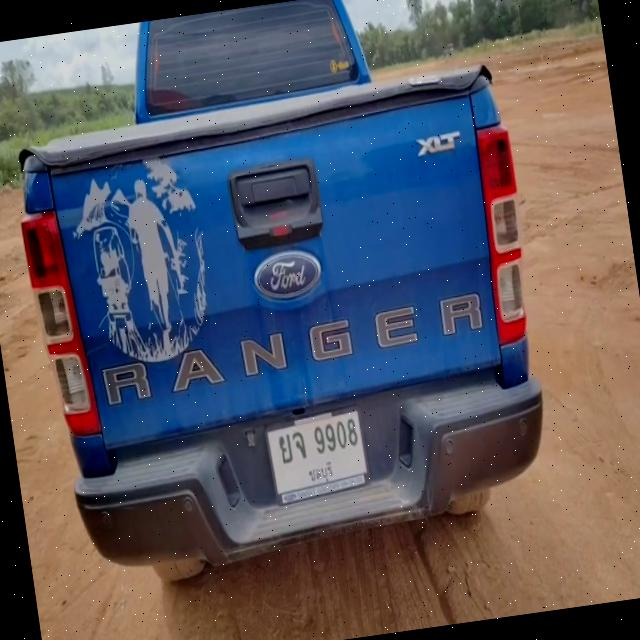Digit: (311, 418, 362, 458)
Licenseplate: (262, 407, 374, 505)
Provincename: (307, 460, 337, 485)
Thaichar: (276, 429, 308, 467)
